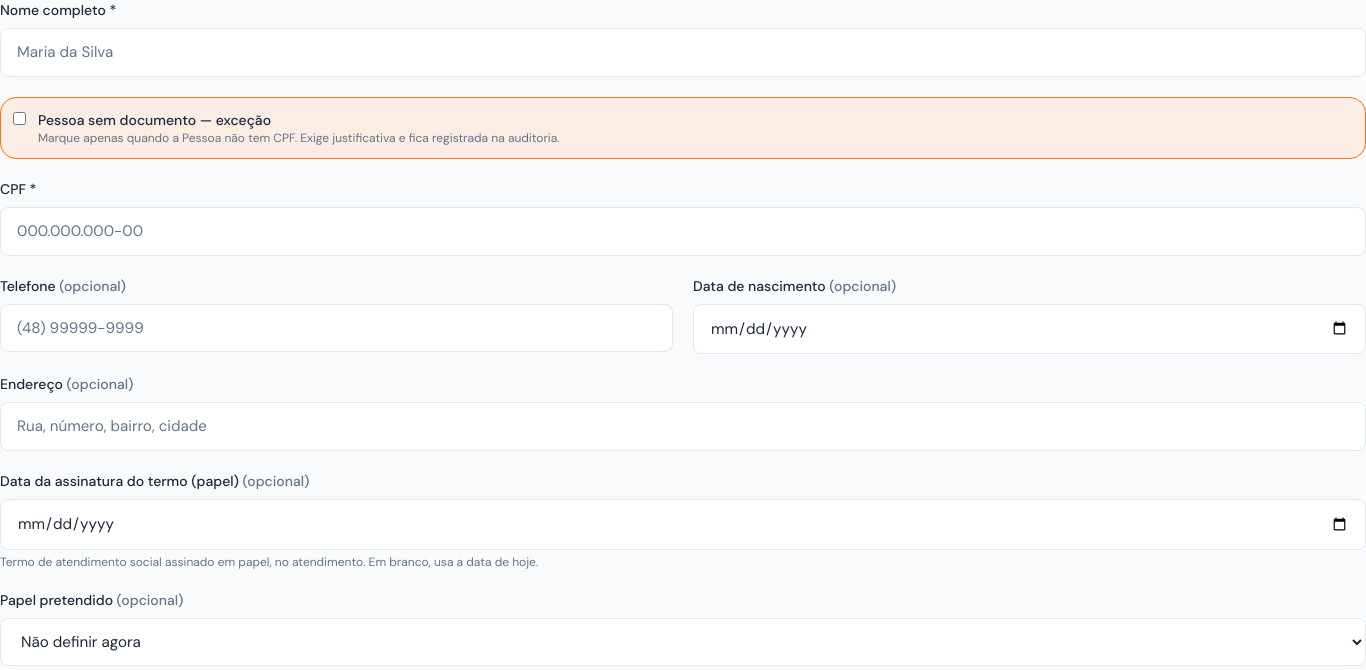
AssistedRegisterForm › ao marcar a exceção, esconde o CPF e mostra a justificativa
Click the checkbox: (20, 118) 13,112 -> 26,125
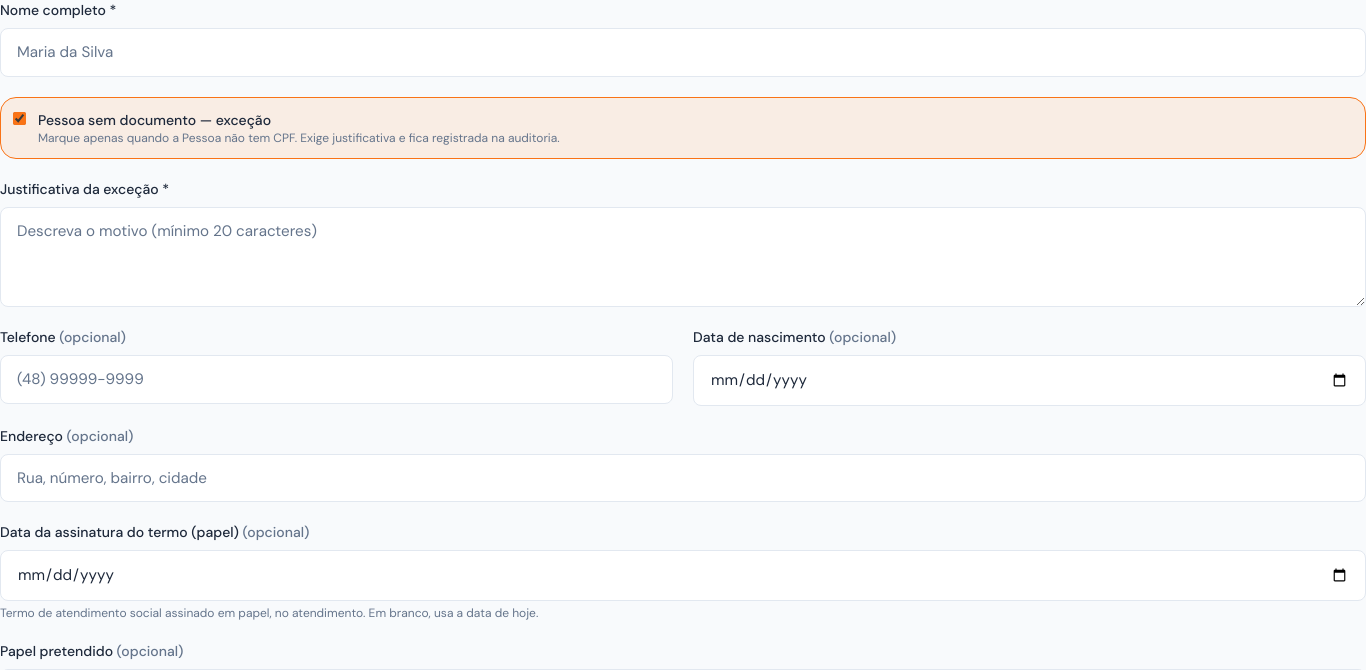
Result: the text box labelled "Justificativa da exceção *" is shown at 0,207 -> 1365,307
